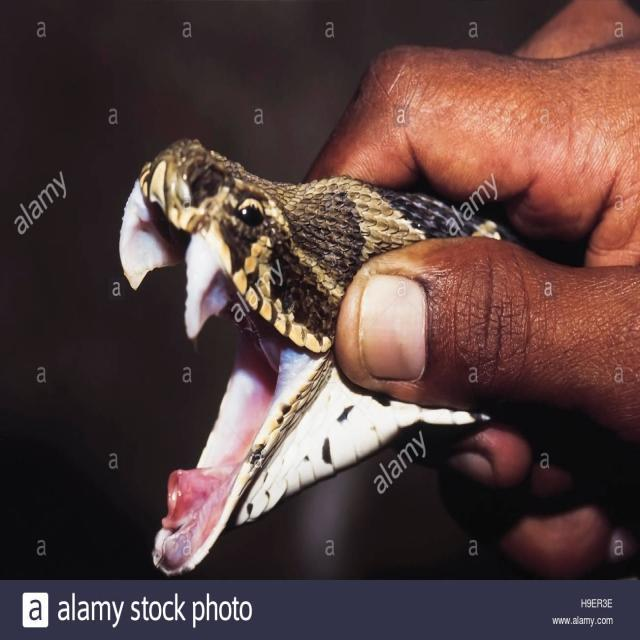Snake: (113, 133, 507, 574)
